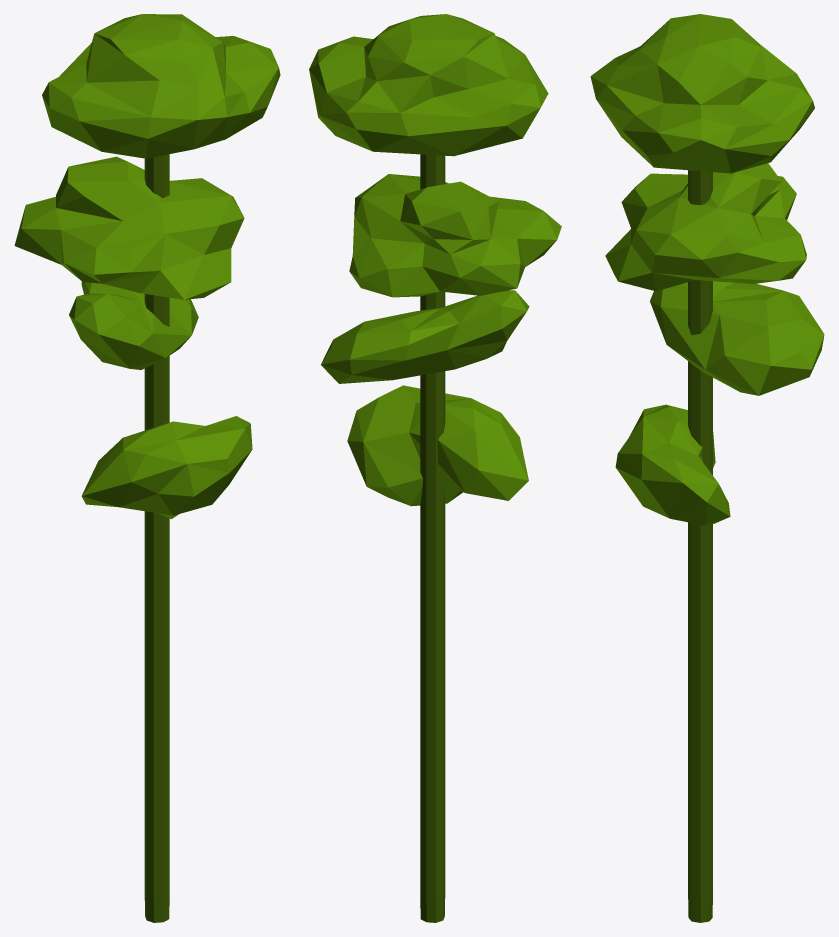
Rendered from Bamboo_v001.fbx.
3 views of the same model, side by side, from view 1: azimuth 30°, elevation 25°; view 2: azimuth 150°, elevation 25°; view 3: azimuth 270°, elevation 25° (orthographic).
Parts seen in each view (by area): view 1: leaves, Bamboo; view 2: leaves, Bamboo; view 3: leaves, Bamboo.
Part boxes in pixels (bbox=[...]): leaves: bbox=[14, 14, 280, 519]; Bamboo: bbox=[144, 154, 169, 922]; leaves: bbox=[309, 14, 561, 506]; Bamboo: bbox=[420, 154, 445, 922]; leaves: bbox=[590, 14, 824, 525]; Bamboo: bbox=[688, 170, 712, 922].
Size of the model in its own units: 238 by 889 by 214.
